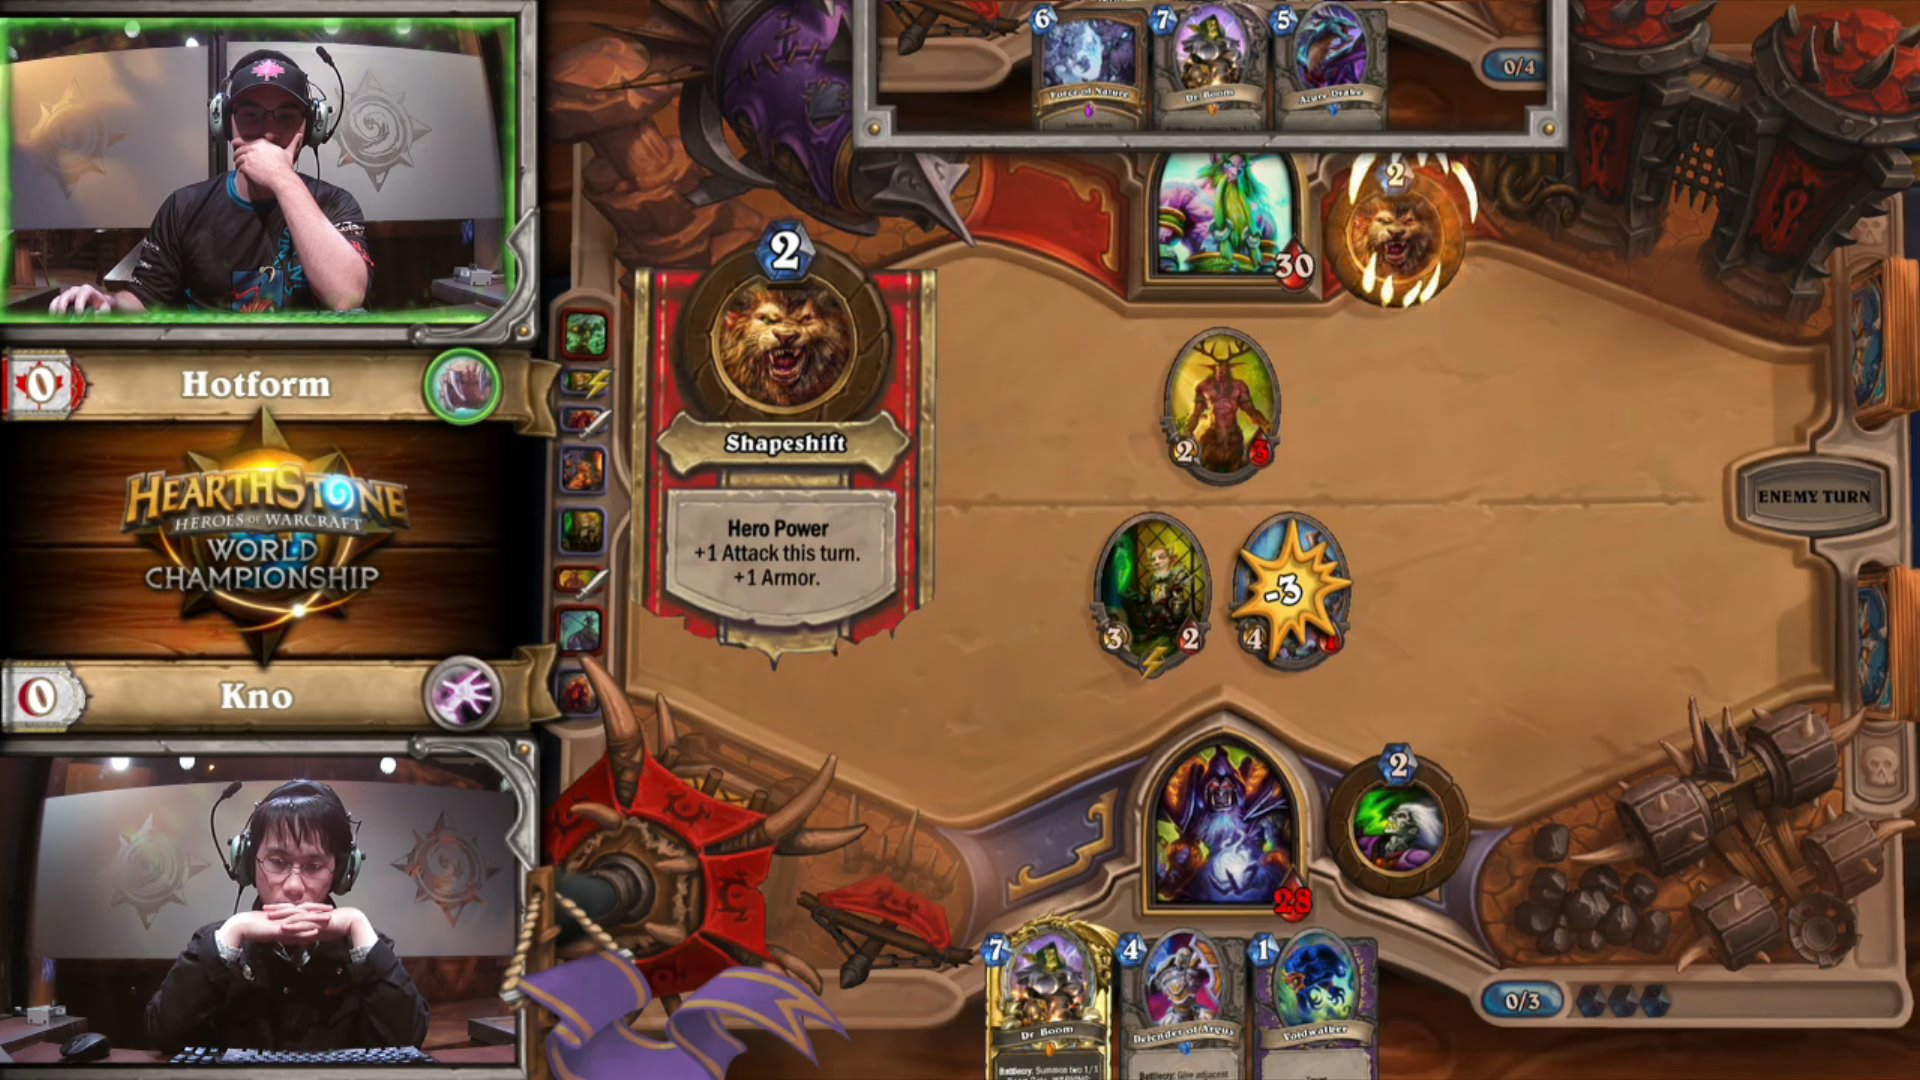card: (984, 930, 1112, 1080), (1249, 930, 1375, 1080), (1118, 930, 1245, 1080), (1033, 1, 1149, 132), (1149, 1, 1265, 132), (1270, 1, 1386, 132)
